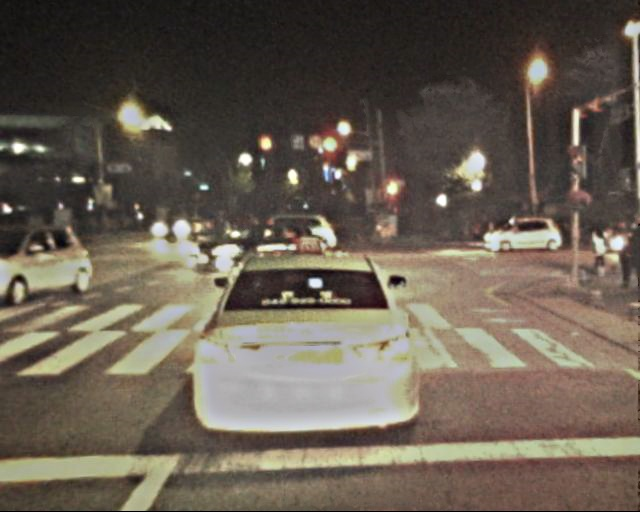person: (609, 219, 639, 292), (210, 211, 257, 236), (589, 229, 609, 278), (473, 218, 496, 243)
